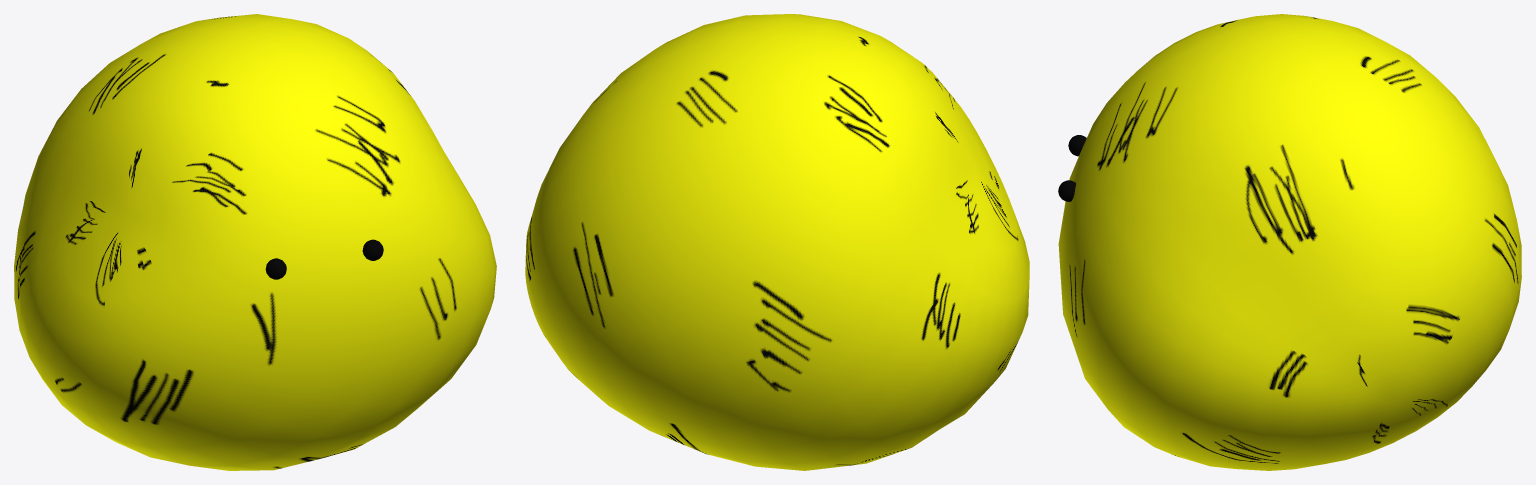
File: roomie_hungry.glb
The picture shows the model from 3 angles, left to right: view 1: azimuth 30°, elevation 25°; view 2: azimuth 150°, elevation 25°; view 3: azimuth 270°, elevation 25°; orthographic projection. The views are drawn at different scales.
Visible parts, largest first — view 1: Body; view 2: Body; view 3: Body.
Boxes of the visible parts, x1,y1,x2,y2 form: Body: (14, 14, 496, 470); Body: (525, 14, 1029, 470); Body: (1058, 14, 1521, 470).
Bounding box in the file's own units: 5.89 × 5.3 × 5.47.
Materials: 2 (1 with a texture image).
